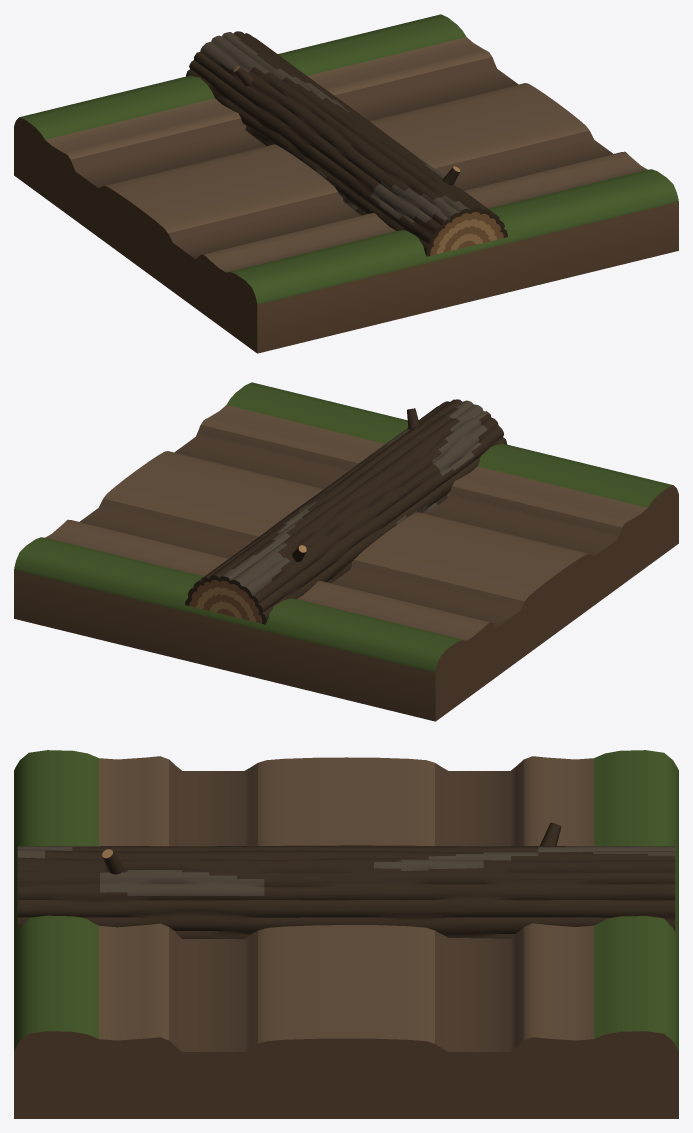
The picture shows the model from 3 angles, top to bottom: view 1: azimuth 30°, elevation 25°; view 2: azimuth 150°, elevation 25°; view 3: azimuth 270°, elevation 25°; orthographic projection. The views are drawn at different scales.
Parts seen in each view (by area): view 1: l1o; view 2: l1o; view 3: l1o.
Part boxes in pixels (box(x1,y1,x2,y2)): l1o: box(14, 14, 678, 353); l1o: box(14, 382, 678, 721); l1o: box(14, 750, 678, 1118).
Size of the model in its own units: 9 by 2.13 by 9.
